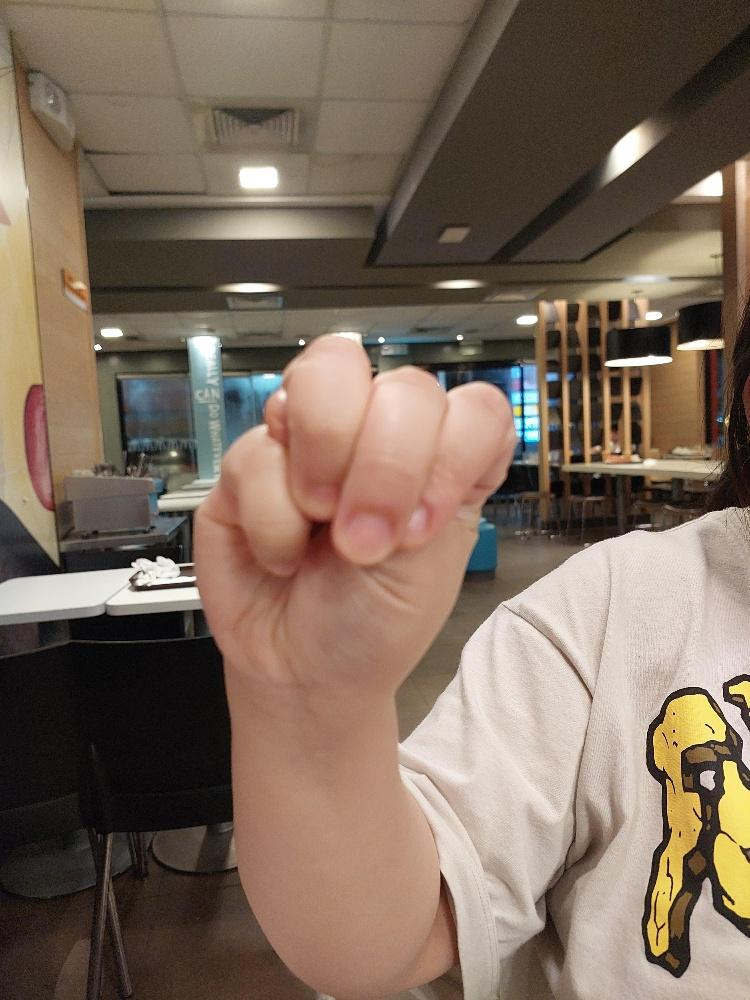m: (188, 331, 517, 698)
